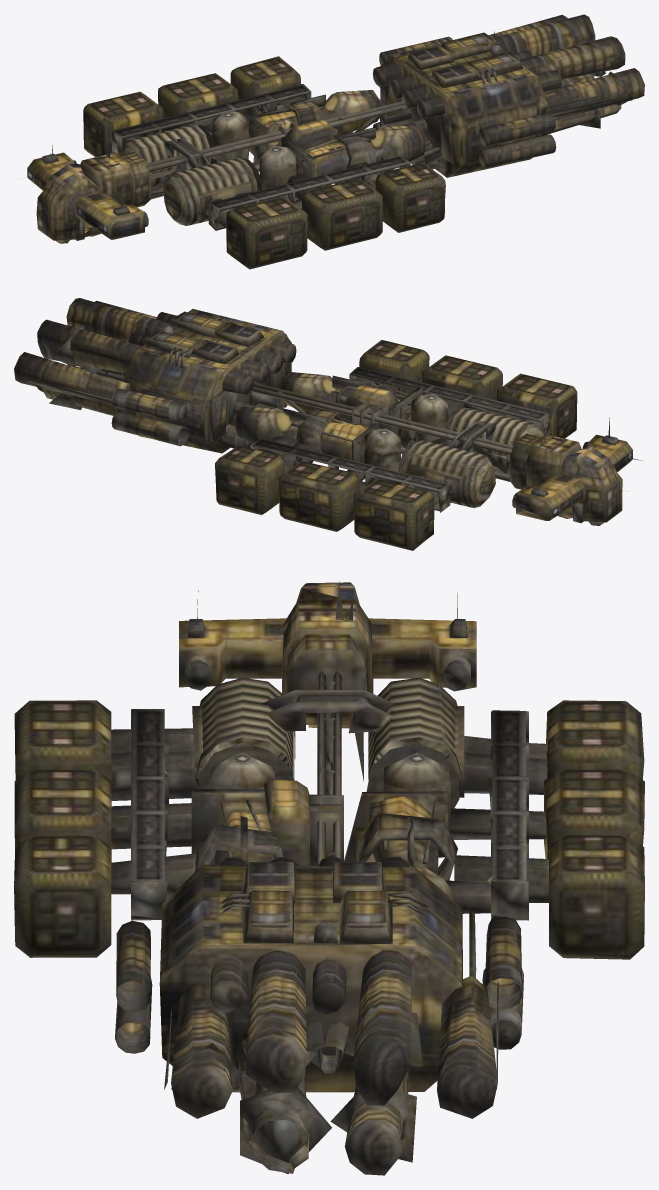
File: traffic_industrial_starfreighter_a.glb
3 renders of one model, top to bottom at view 1: azimuth 30°, elevation 25°; view 2: azimuth 150°, elevation 25°; view 3: azimuth 270°, elevation 25°, orthographic. The views are drawn at different scales.
Size of the model in its own units: 0.9574 by 0.144 by 0.4946.
1 material, 1 textured.
